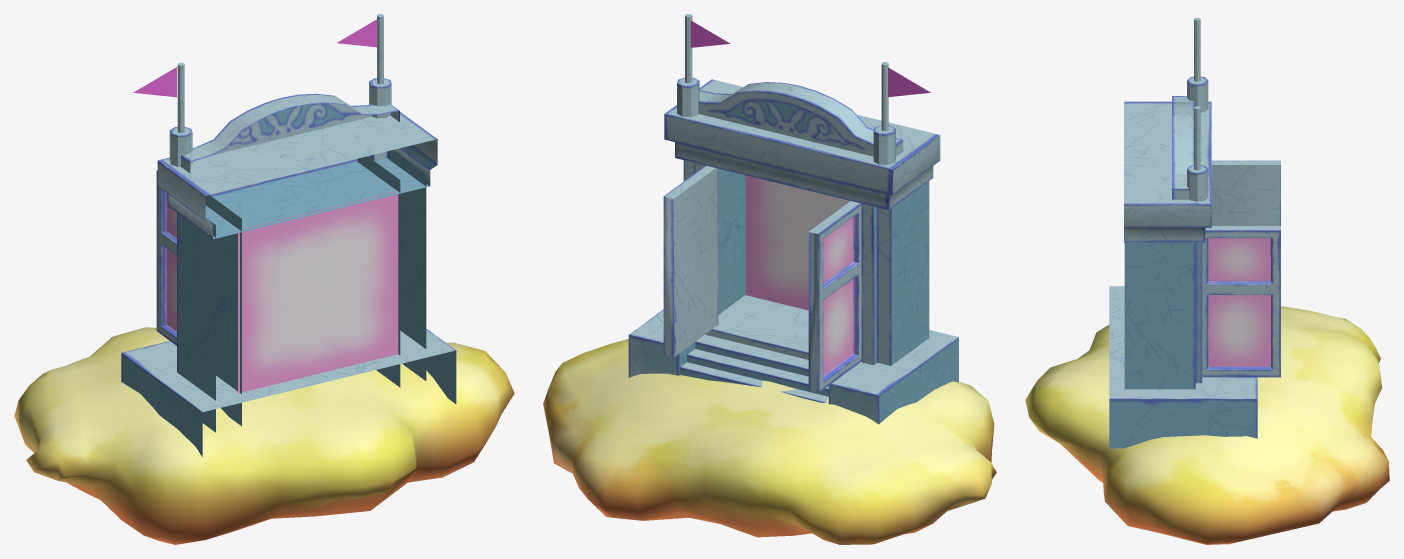
File: Goal_Open.fbx
The picture shows the model from 3 angles, left to right: view 1: azimuth 30°, elevation 25°; view 2: azimuth 150°, elevation 25°; view 3: azimuth 270°, elevation 25°; orthographic projection. The views are drawn at different scales.
Visible parts, largest first — view 1: goal_open; view 2: goal_open; view 3: goal_open.
Boxes of the visible parts, x1=… form: goal_open: x1=14, y1=14, x2=514, y2=544; goal_open: x1=543, y1=14, x2=996, y2=544; goal_open: x1=1025, y1=17, x2=1389, y2=544.
Bounding box in the file's own units: 1.97 × 1.9 × 1.51.
1 material, 1 textured.
